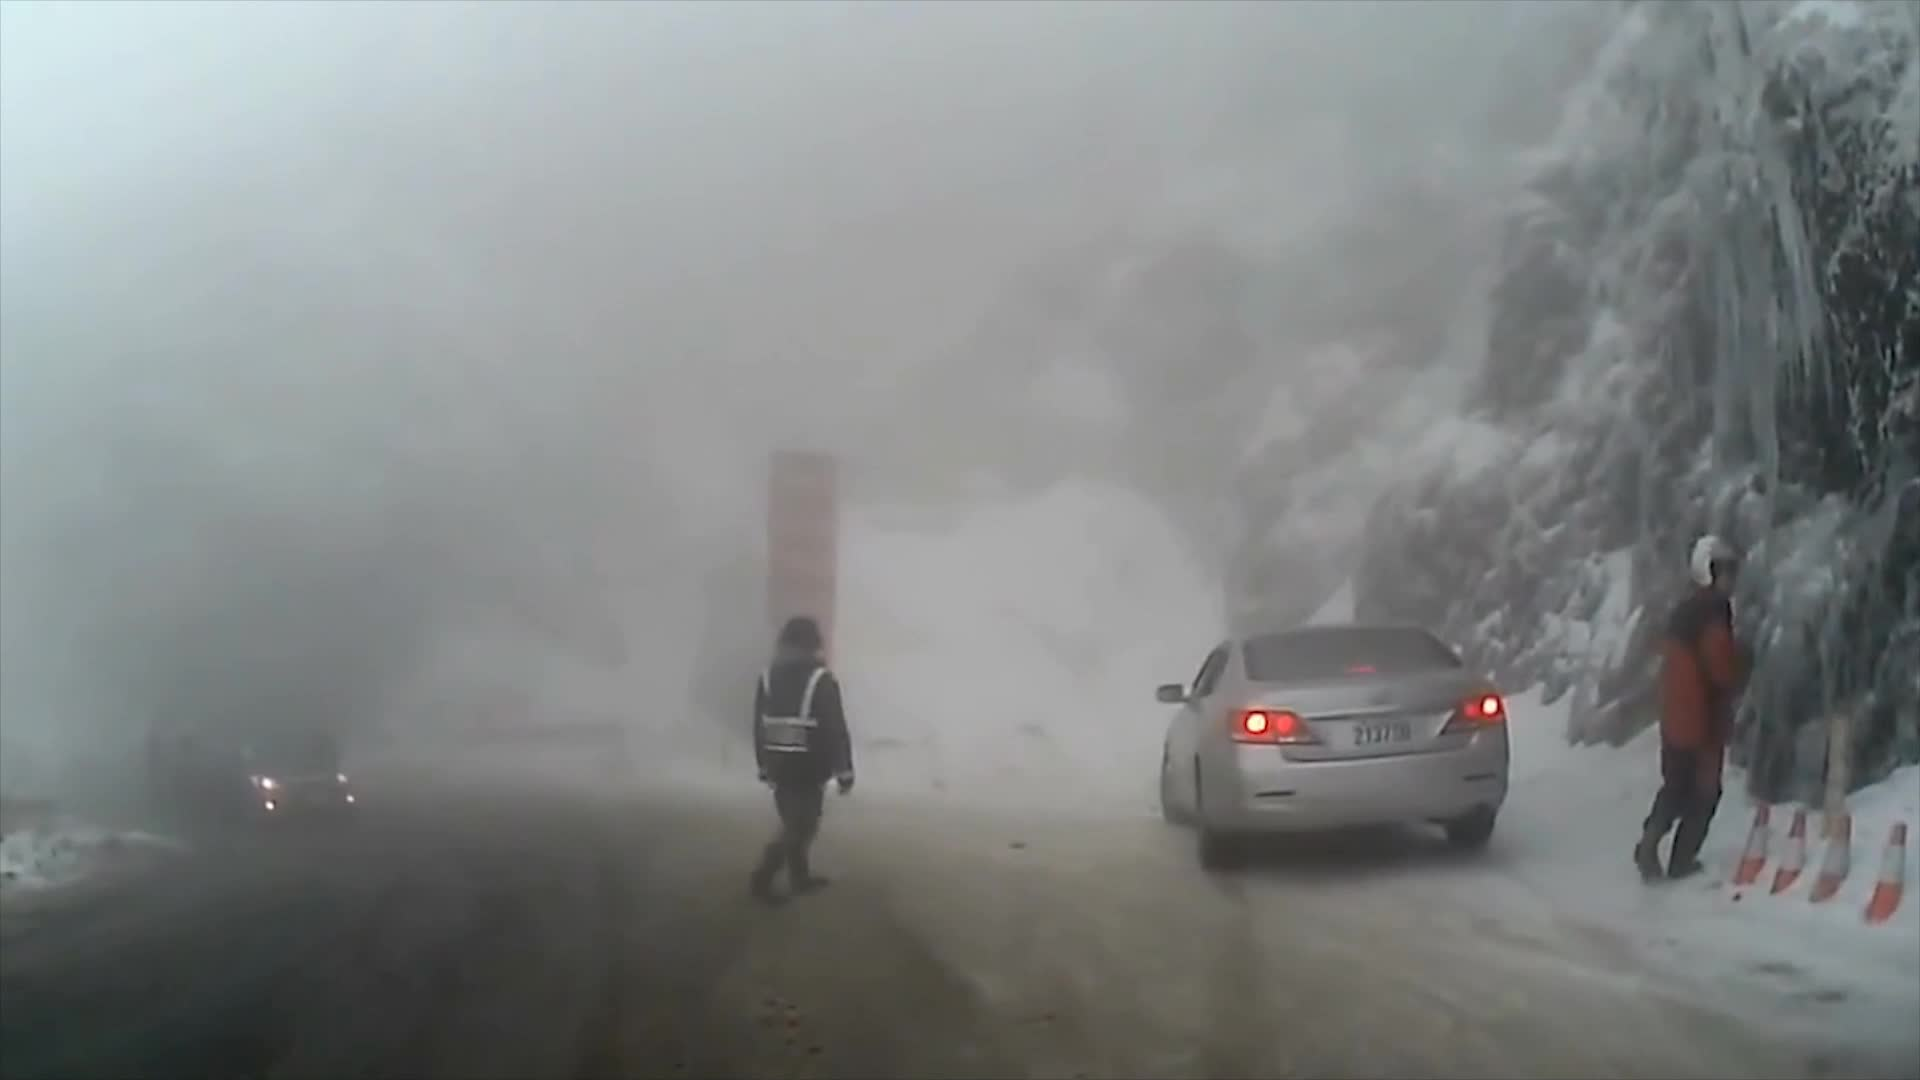pedestrian: (1633, 537, 1765, 886), (750, 621, 860, 907)
vehicle: (1156, 623, 1508, 874)
